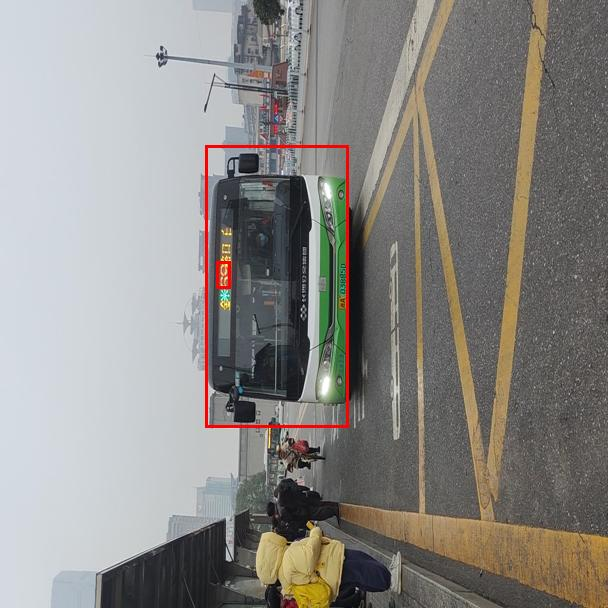bus: (205, 145, 348, 427)
screen: (216, 261, 230, 288)
